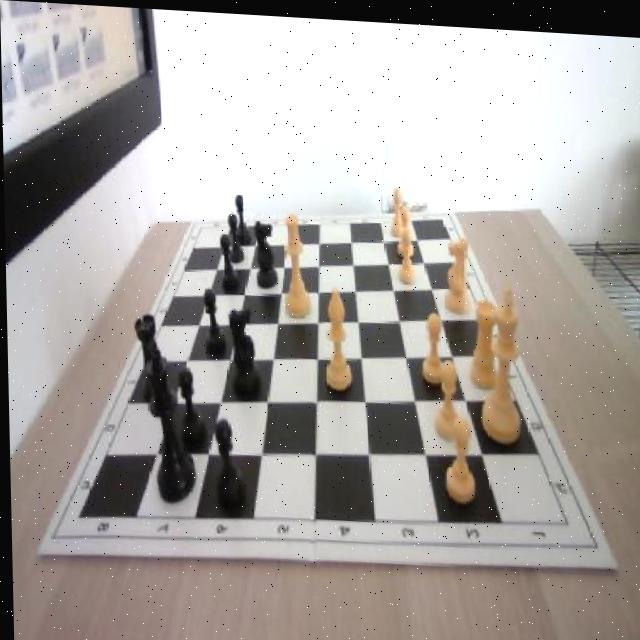black-bishop: (145, 337, 195, 504)
black-king: (227, 306, 261, 399), (253, 215, 277, 286)
black-knight: (211, 419, 243, 508), (177, 362, 204, 448), (202, 283, 226, 354), (219, 233, 237, 290), (225, 206, 243, 261), (233, 192, 250, 245)
black-queen: (133, 311, 168, 398)
black-rook: (322, 283, 351, 386)
white-bishop: (478, 282, 526, 438)
white-king: (443, 230, 470, 307)
white-knight: (441, 411, 476, 502), (427, 355, 458, 439), (419, 306, 446, 378), (395, 223, 415, 280), (397, 200, 413, 254), (390, 181, 404, 232)
white-pawn: (282, 208, 311, 314)
white-queen: (466, 294, 499, 384)
